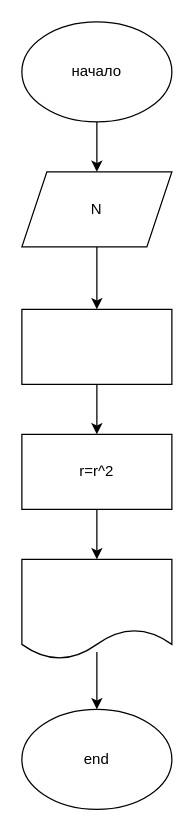
Some shapes in this 194 by 831 pixel diagram are drawn without their labels. Each missing label, with the centre of its shape:
print(r): the point at 96,608
r=random(1;N): the point at 96,346
